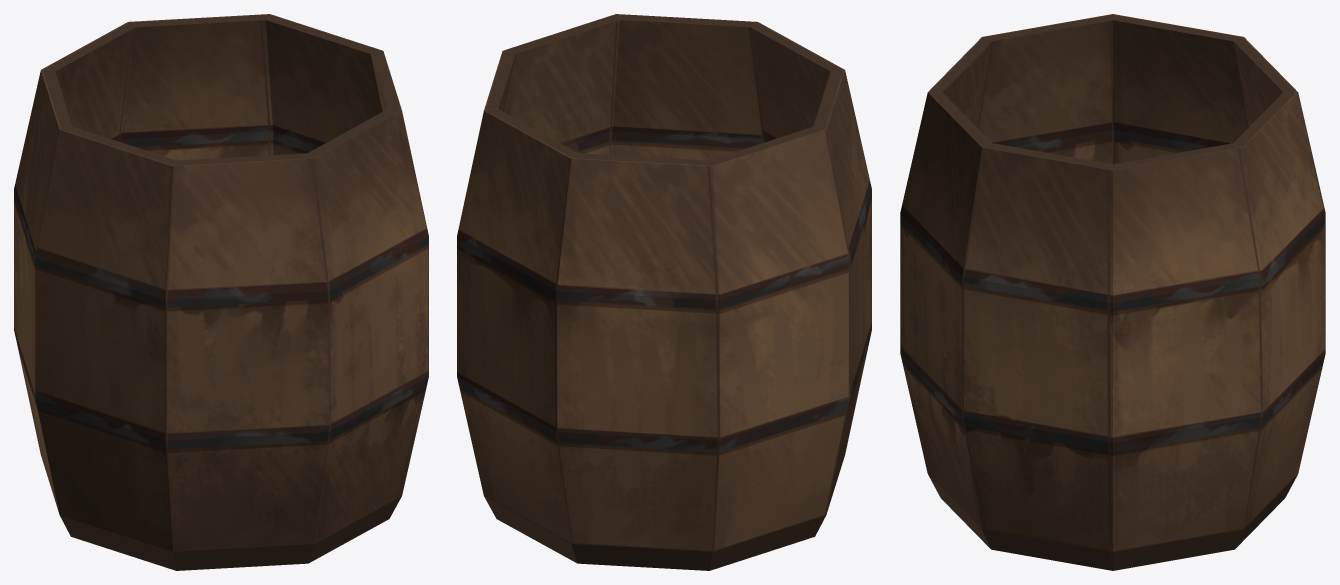
Rendered from Barrel02.fbx.
3 renders of one model, left to right at view 1: azimuth 30°, elevation 25°; view 2: azimuth 150°, elevation 25°; view 3: azimuth 270°, elevation 25°, orthographic.
Visible parts, largest first — view 1: Barrel02; view 2: Barrel02; view 3: Barrel02.
Boxes of the visible parts, x1,y1,x2,y2 form: Barrel02: (14, 14, 428, 570); Barrel02: (457, 14, 871, 570); Barrel02: (900, 14, 1325, 570).
Bounding box in the file's own units: 1.06 × 1.12 × 1.06.
Materials: 1 (1 with a texture image).
